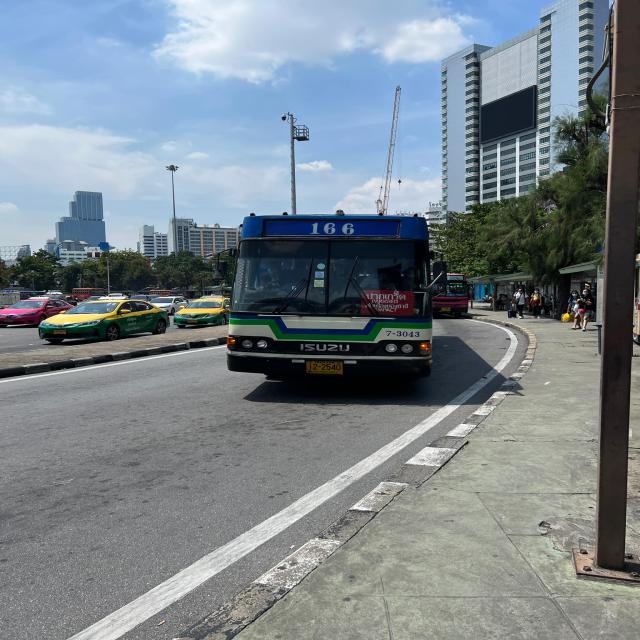BMTA-bus: (224, 208, 436, 381)
Bus-Line-Number: (302, 220, 364, 237)
Destination-Sign-Extra-Bus: (360, 290, 414, 316)
